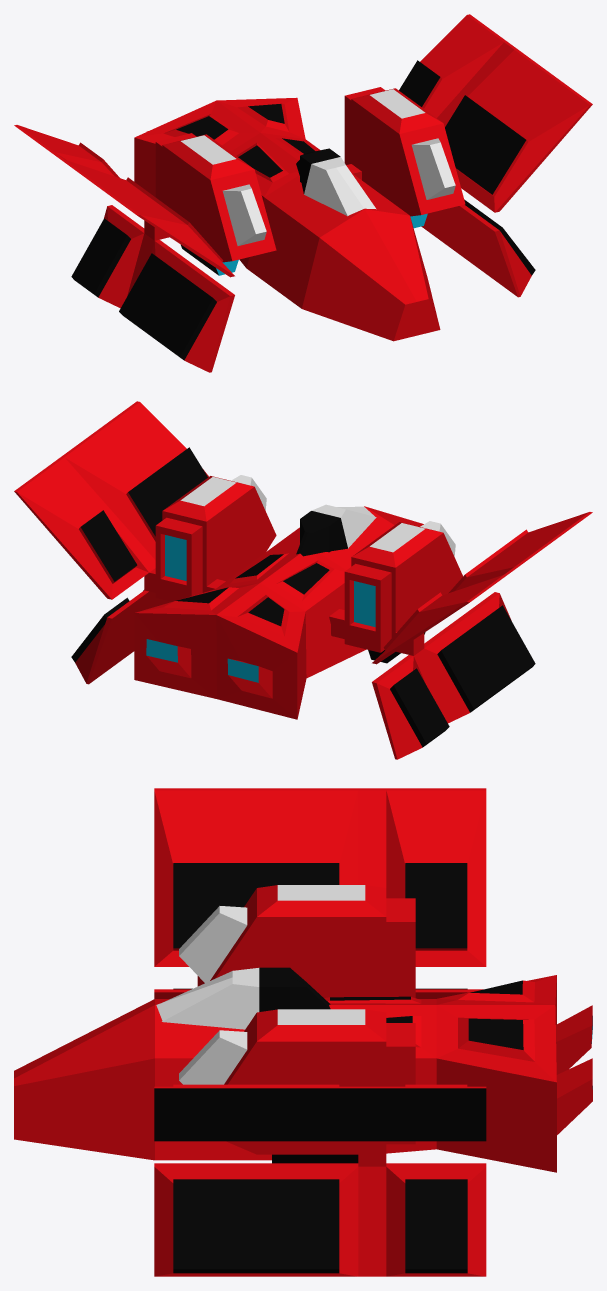
File: PlaneSecond.fbx
The picture shows the model from 3 angles, top to bottom: view 1: azimuth 30°, elevation 25°; view 2: azimuth 150°, elevation 25°; view 3: azimuth 270°, elevation 25°; orthographic projection. The views are drawn at different scales.
Parts seen in each view (by area): view 1: Cube.002; view 2: Cube.002; view 3: Cube.002.
Part boxes in pixels (x1=…): Cube.002: x1=14, y1=14, x2=592, y2=372; Cube.002: x1=14, y1=401, x2=592, y2=759; Cube.002: x1=14, y1=788, x2=592, y2=1276.
Bounding box in the file's own units: 1008 × 369 × 821.
